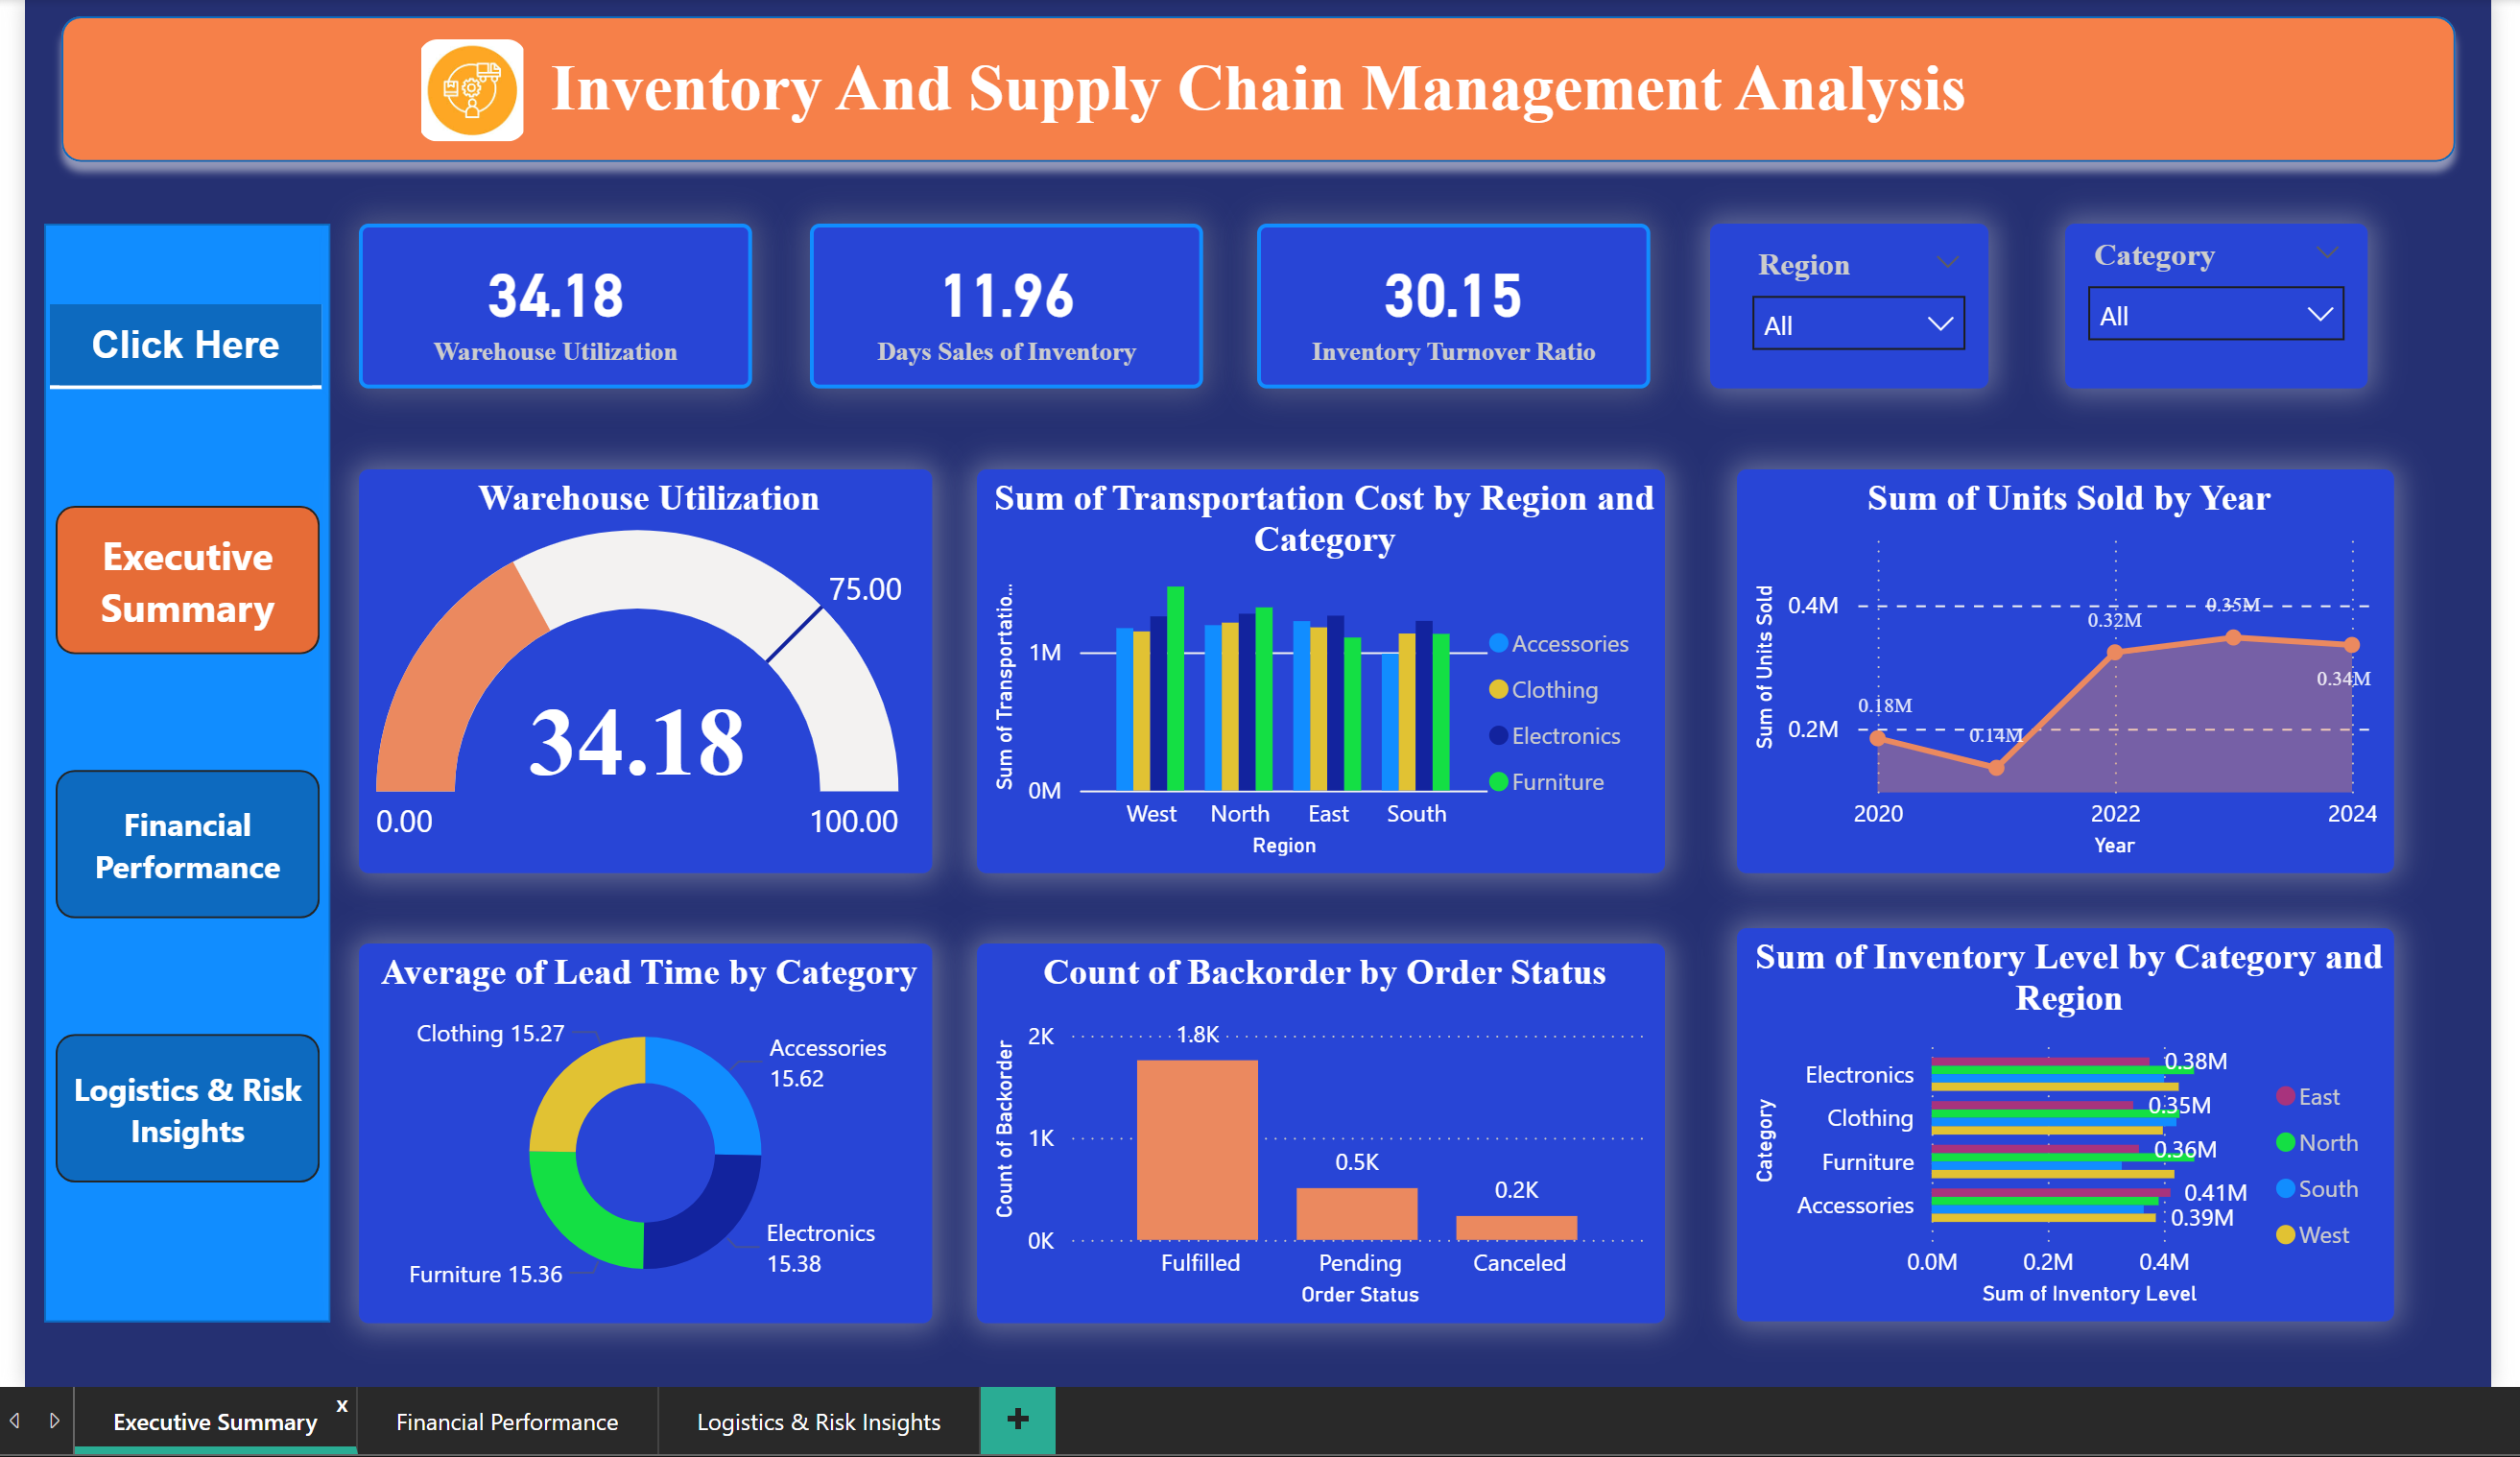

What the dashboard file says about the page in this screenshot:
{"tool":"powerbi","page":{"name":"Executive Summary","canvas":[1280,720],"ordinal":0},"visuals":[{"type":"shape","box":[9.6,116.6,148.6,570],"z":0},{"type":"shape","box":[9.9,0,1260.2,93.5],"z":1000},{"type":"image","box":[204.5,20.9,56.1,52.8],"z":2000},{"type":"card","fields":{"Values":["All Measures.Warehouse Utilization"]},"box":[173.2,116.6,204.2,85.5],"z":3000},{"type":"card","fields":{"Values":["All Measures.Days Sales of Inventory"]},"box":[407.4,116.6,204.2,85.5],"z":4000},{"type":"card","fields":{"Values":["All Measures.Inventory Turnover Ratio"]},"box":[639.5,116.6,204.2,85.5],"z":5000},{"type":"slicer","fields":{"Values":["Inventory and SupplyChain Dataset.Region"]},"box":[874.7,116.6,144.4,85.5],"z":6000},{"type":"slicer","fields":{"Values":["Inventory and SupplyChain Dataset.Category"]},"box":[1058.6,116.6,157.2,85.5],"z":7000},{"type":"gauge","fields":{"Y":["All Measures.Warehouse Utilization"]},"box":[173.2,243.8,297.3,209.6],"z":8000},{"type":"clusteredColumnChart","fields":{"Y":["Sum(Inventory and SupplyChain Dataset.Transportation Cost)"],"Category":["Inventory and SupplyChain Dataset.Region"],"Series":["Inventory and SupplyChain Dataset.Category"]},"box":[494,243.8,357.2,209.6],"z":9000},{"type":"lineChart","fields":{"Y":["Sum(Inventory and SupplyChain Dataset.Units Sold)"],"Category":["Inventory and SupplyChain Dataset.Date.Variation.Date Hierarchy.Year"]},"box":[888.6,243.8,341.1,209.6],"z":10000},{"type":"donutChart","fields":{"Y":["Avg(Inventory and SupplyChain Dataset.Lead Time)"],"Category":["Inventory and SupplyChain Dataset.Category"]},"box":[173.2,489.8,297.3,196.8],"z":11000},{"type":"columnChart","fields":{"Y":["CountNonNull(Inventory and SupplyChain Dataset.Backorder)"],"Category":["Inventory and SupplyChain Dataset.Order Status"]},"box":[494,489.8,357.2,196.8],"z":12000},{"type":"clusteredBarChart","fields":{"Y":["Sum(Inventory and SupplyChain Dataset.Inventory Level)"],"Category":["Inventory and SupplyChain Dataset.Category"],"Series":["Inventory and SupplyChain Dataset.Region"]},"box":[888.6,482.3,341.1,204.2],"z":13000},{"type":"pageNavigator","box":[16,263.1,137.9,354],"z":14000},{"type":"textbox","title":"Click Here","box":[12.6,158.7,141.1,44.1],"z":15000}]}

Visuals, with their boxes on the page's 1280x720 design canvas (x1, y1, x2, y2). These are canvas units, not pixel positions in the 2520x1457 screenshot, which may show the page scaled, cropped or inside an application window:
shape: rect(10, 117, 158, 687)
shape: rect(10, 0, 1270, 94)
image: rect(204, 21, 261, 74)
card - All Measures.Warehouse Utilization: rect(173, 117, 377, 202)
card - All Measures.Days Sales of Inventory: rect(407, 117, 612, 202)
card - All Measures.Inventory Turnover Ratio: rect(640, 117, 844, 202)
slicer - Inventory and SupplyChain Dataset.Region: rect(875, 117, 1019, 202)
slicer - Inventory and SupplyChain Dataset.Category: rect(1059, 117, 1216, 202)
gauge - All Measures.Warehouse Utilization: rect(173, 244, 470, 453)
clusteredColumnChart - Sum(Inventory and SupplyChain Dataset.Transportation Cost) x Inventory and SupplyChain Dataset.Region: rect(494, 244, 851, 453)
lineChart - Sum(Inventory and SupplyChain Dataset.Units Sold) x Inventory and SupplyChain Dataset.Date.Variation.Date Hierarchy.Year: rect(889, 244, 1230, 453)
donutChart - Avg(Inventory and SupplyChain Dataset.Lead Time) x Inventory and SupplyChain Dataset.Category: rect(173, 490, 470, 687)
columnChart - CountNonNull(Inventory and SupplyChain Dataset.Backorder) x Inventory and SupplyChain Dataset.Order Status: rect(494, 490, 851, 687)
clusteredBarChart - Sum(Inventory and SupplyChain Dataset.Inventory Level) x Inventory and SupplyChain Dataset.Category: rect(889, 482, 1230, 686)
pageNavigator: rect(16, 263, 154, 617)
"Click Here" textbox: rect(13, 159, 154, 203)
